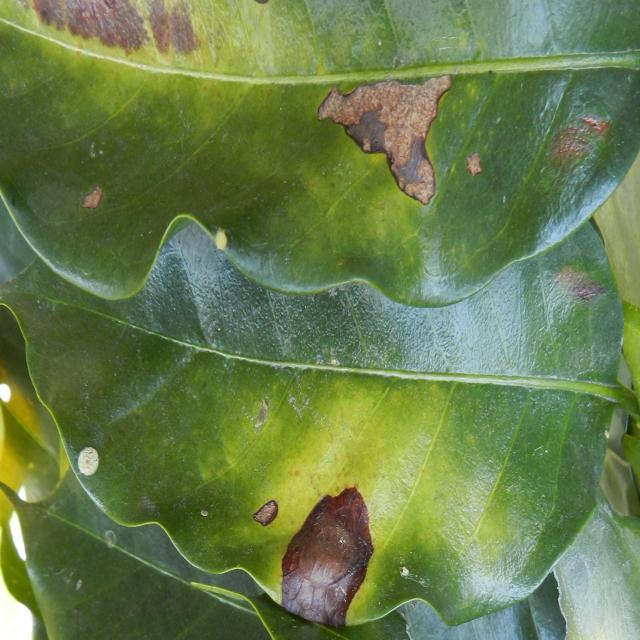Enfermedad-Mancha-de-hierro: (0, 218, 634, 640)
